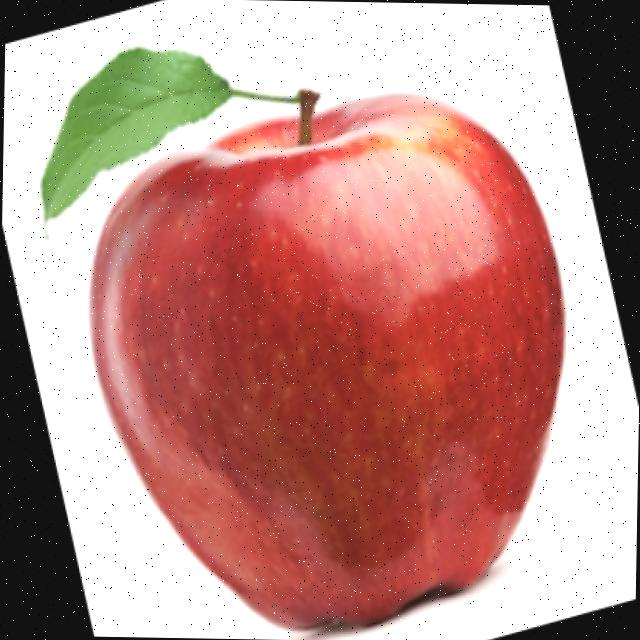Ripe: (77, 75, 576, 640)
